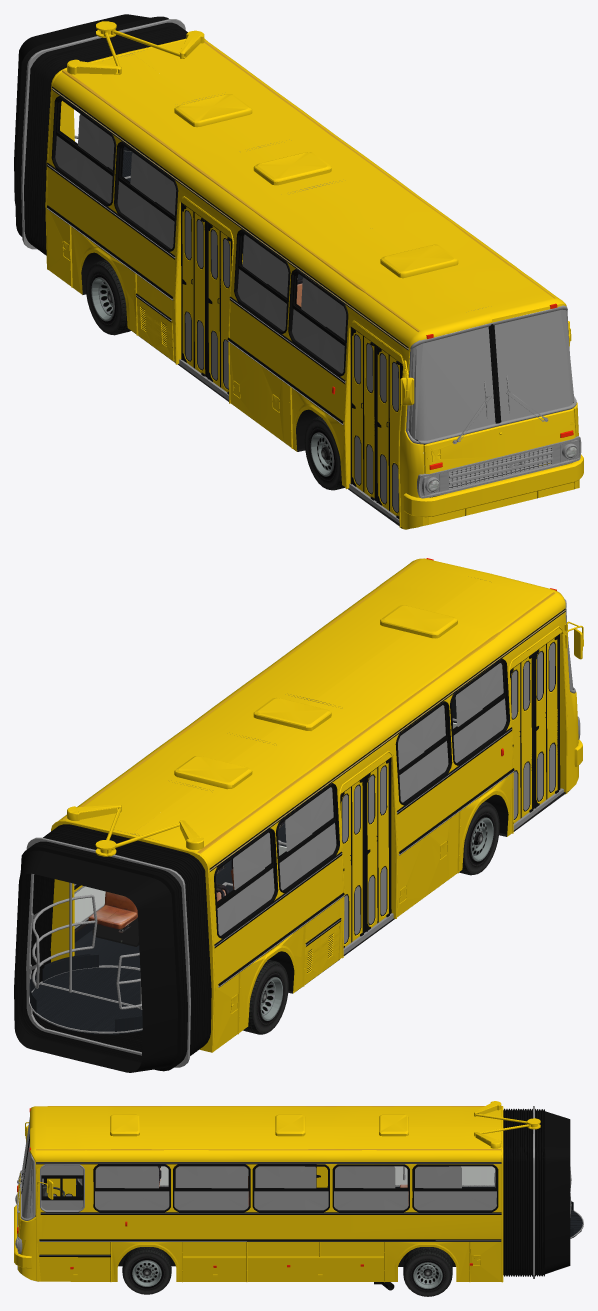
File: Bus.FBX
3 views of the same model, one above another, from view 1: azimuth 30°, elevation 25°; view 2: azimuth 150°, elevation 25°; view 3: azimuth 270°, elevation 25° (orthographic). The views are drawn at different scales.
Visible parts, largest first — view 1: Body, Windows, Interior, Connector, Middle Door 2, Middle Door 003, Middle Door 004, Front Bumper, Middle Door 1, Wheel_RR, Wheel_FR, Buttom; view 2: Body, Interior, Connector, Windows, Middle Door 1, Middle Door 004, Middle Door 2, Middle Door 003, Wheel_RR, Buttom, Wheel_FR; view 3: Body, Windows, Interior, Connector, Wheel_RL, Wheel_FL, Middle Door 004, Front Bumper.
Part boxes in pixels (bbox=[...]): Body: bbox=[45, 21, 581, 529]; Windows: bbox=[55, 114, 574, 440]; Interior: bbox=[21, 19, 576, 523]; Connector: bbox=[14, 14, 187, 255]; Middle Door 2: bbox=[181, 202, 207, 377]; Middle Door 003: bbox=[350, 326, 376, 501]; Middle Door 004: bbox=[376, 345, 402, 518]; Front Bumper: bbox=[403, 454, 583, 517]; Middle Door 1: bbox=[207, 221, 232, 394]; Wheel_RR: bbox=[85, 260, 131, 335]; Wheel_FR: bbox=[304, 416, 345, 490]; Buttom: bbox=[81, 234, 574, 528]; Body: bbox=[50, 558, 583, 1052]; Interior: bbox=[26, 559, 575, 1067]; Connector: bbox=[14, 824, 211, 1072]; Windows: bbox=[74, 633, 573, 935]; Middle Door 1: bbox=[365, 757, 391, 931]; Middle Door 004: bbox=[534, 634, 560, 808]; Middle Door 2: bbox=[340, 776, 365, 947]; Middle Door 003: bbox=[510, 653, 534, 823]; Wheel_RR: bbox=[243, 959, 288, 1034]; Buttom: bbox=[92, 790, 569, 993]; Wheel_FR: bbox=[459, 801, 499, 875]; Body: bbox=[16, 1101, 540, 1282]; Windows: bbox=[22, 1117, 496, 1218]; Interior: bbox=[17, 1106, 583, 1278]; Connector: bbox=[503, 1108, 570, 1276]; Wheel_RL: bbox=[403, 1247, 452, 1296]; Wheel_FL: bbox=[122, 1247, 171, 1294]; Middle Door 004: bbox=[43, 1178, 76, 1196]; Front Bumper: bbox=[14, 1205, 31, 1268].
Size of the model in its own units: 2.98 by 3.49 by 12.11.
Materials: 14 (5 with a texture image).
